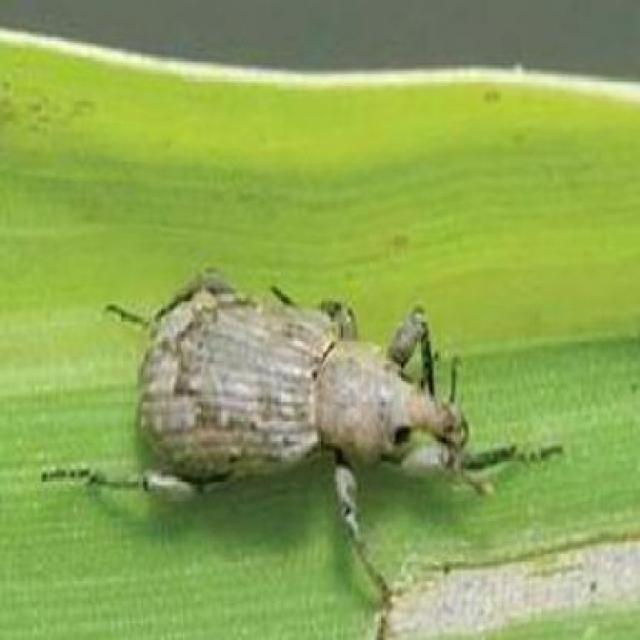rice-bug: (89, 263, 480, 588)
